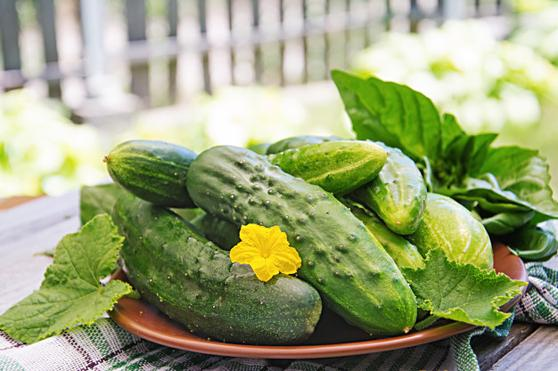cucumber: (183, 143, 426, 338)
